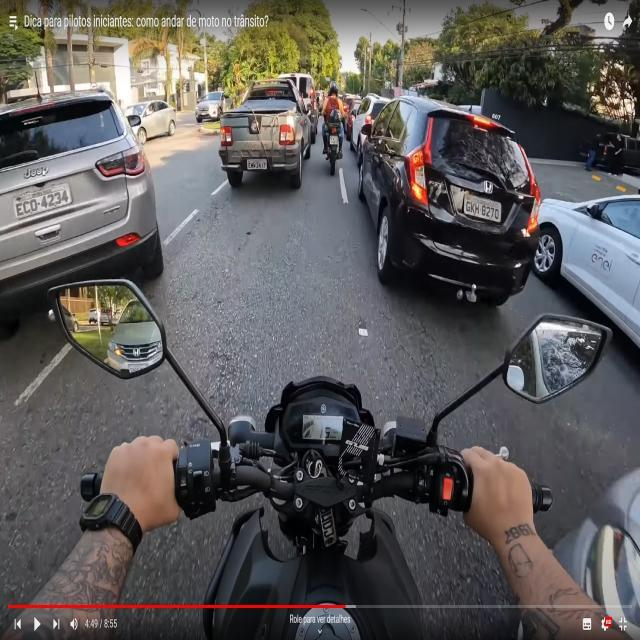placa_moto: (329, 134, 339, 147)
